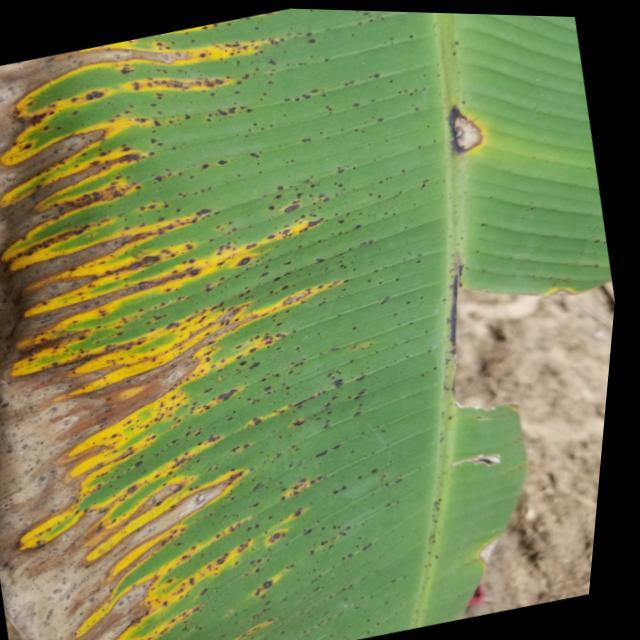Early_rust: (7, 0, 637, 640)
